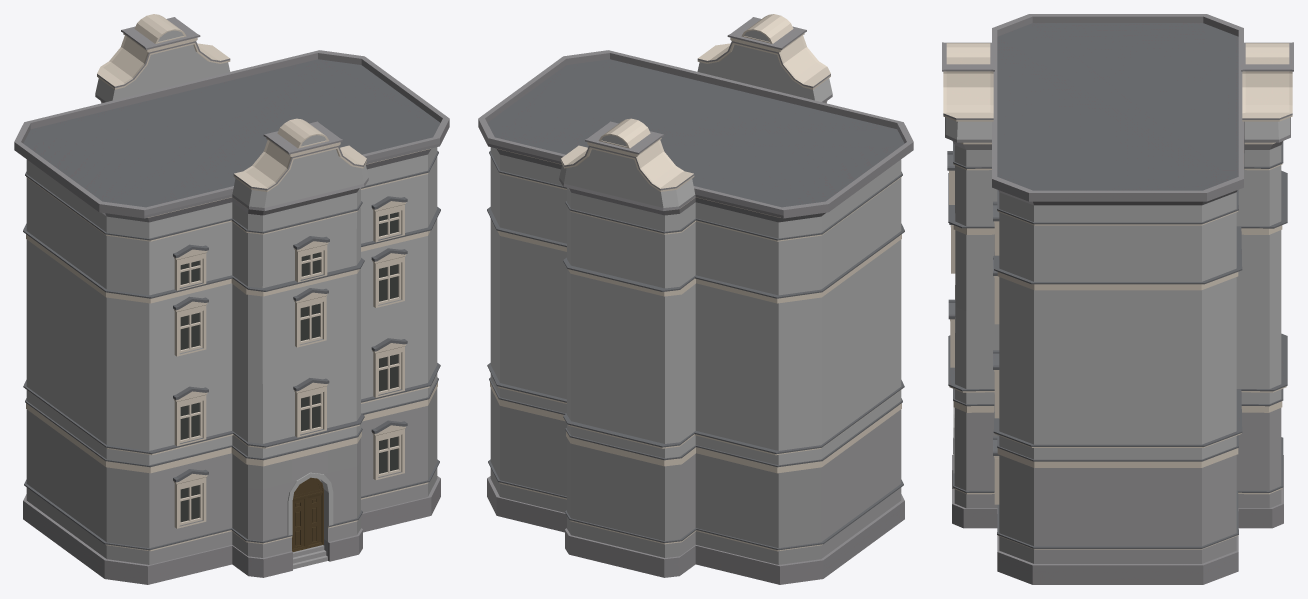
Rendered from Building4.glb.
The picture shows the model from 3 angles, left to right: view 1: azimuth 30°, elevation 25°; view 2: azimuth 150°, elevation 25°; view 3: azimuth 270°, elevation 25°; orthographic projection. The views are drawn at different scales.
Visible parts, largest first — view 1: Building4; view 2: Building4; view 3: Building4.
Boxes of the visible parts, bbox=[...] form: Building4: bbox=[14, 14, 449, 584]; Building4: bbox=[478, 14, 913, 584]; Building4: bbox=[942, 14, 1293, 584].
Bounding box in the file's own units: 4.64 × 5.49 × 3.86.
Materials: 1 (1 with a texture image).
